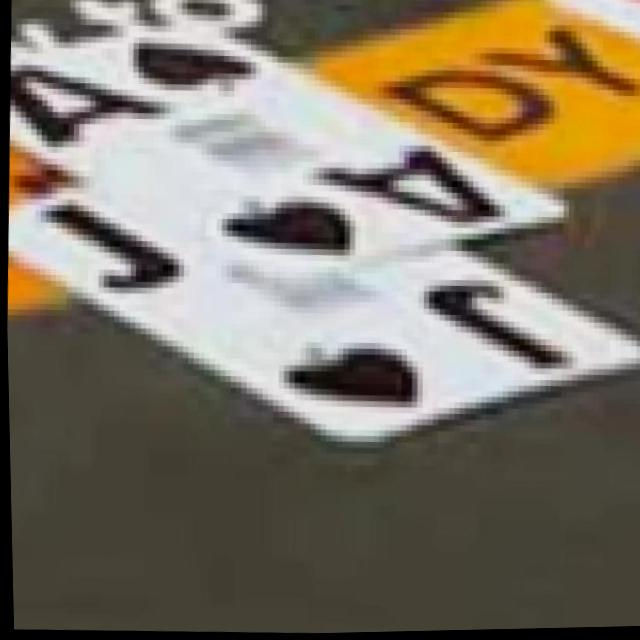Card-A: (10, 22, 567, 295)
Card-J: (8, 188, 640, 452)
